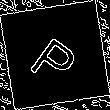P_NE: (25, 24, 85, 86)
